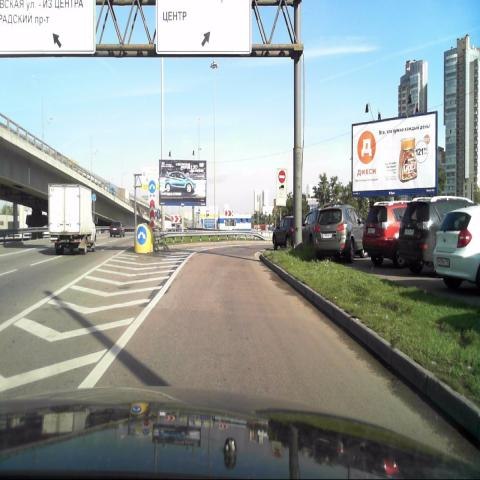4_2_3: (136, 224, 147, 246)
